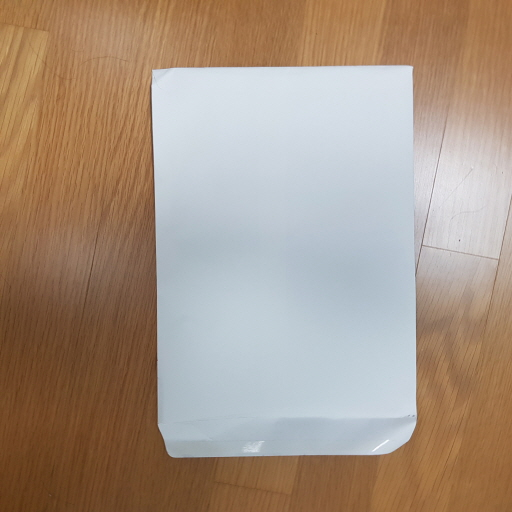Paper_2: (142, 55, 433, 475)
